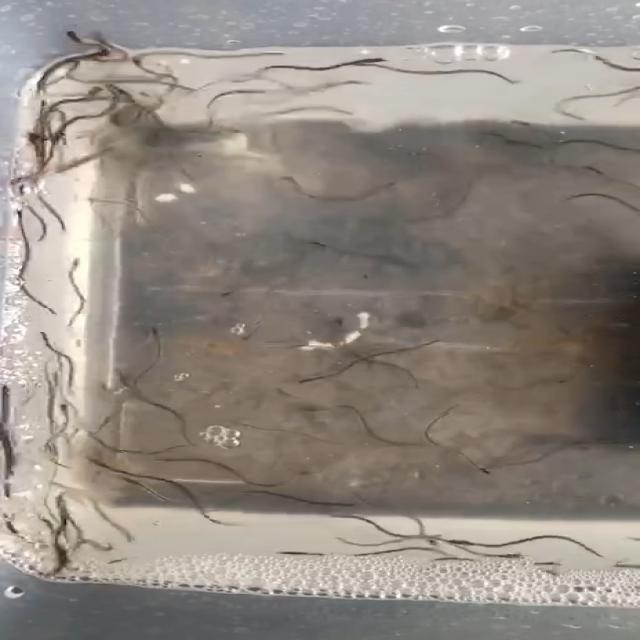inactive_glass_eel: (214, 280, 263, 306), (3, 200, 45, 230), (82, 452, 134, 476), (128, 324, 188, 343), (277, 402, 334, 422), (113, 368, 150, 398), (354, 56, 395, 82), (296, 233, 342, 256), (43, 250, 87, 274), (68, 83, 110, 107), (283, 370, 324, 392), (76, 195, 126, 212), (350, 46, 381, 73), (52, 25, 90, 46), (153, 455, 208, 469), (37, 328, 70, 351), (445, 532, 476, 555), (498, 548, 528, 571), (46, 400, 83, 418), (333, 314, 357, 336)
